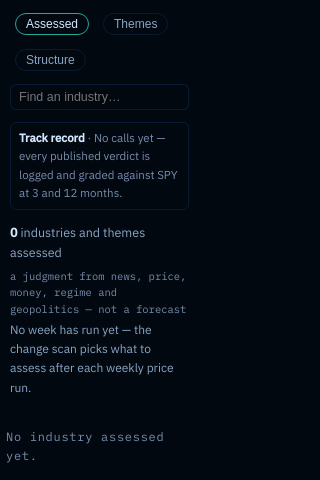
Scenario: IndustryView › with no measurements yet, says the engine has not run
This screenshot has width=320, height=480.
Step 1. Click the tab "Structure" → x=50, y=60, box x1=15 y1=49 x2=86 y2=71
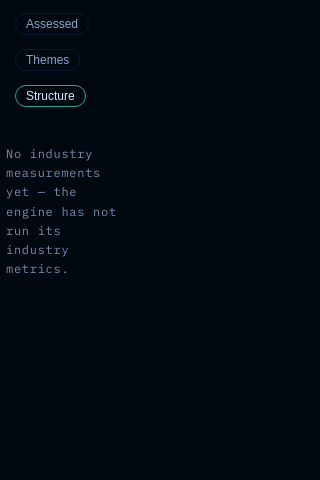
Expected: the text "the engine has not run" is shown, x1=6 y1=146 x2=117 y2=276
